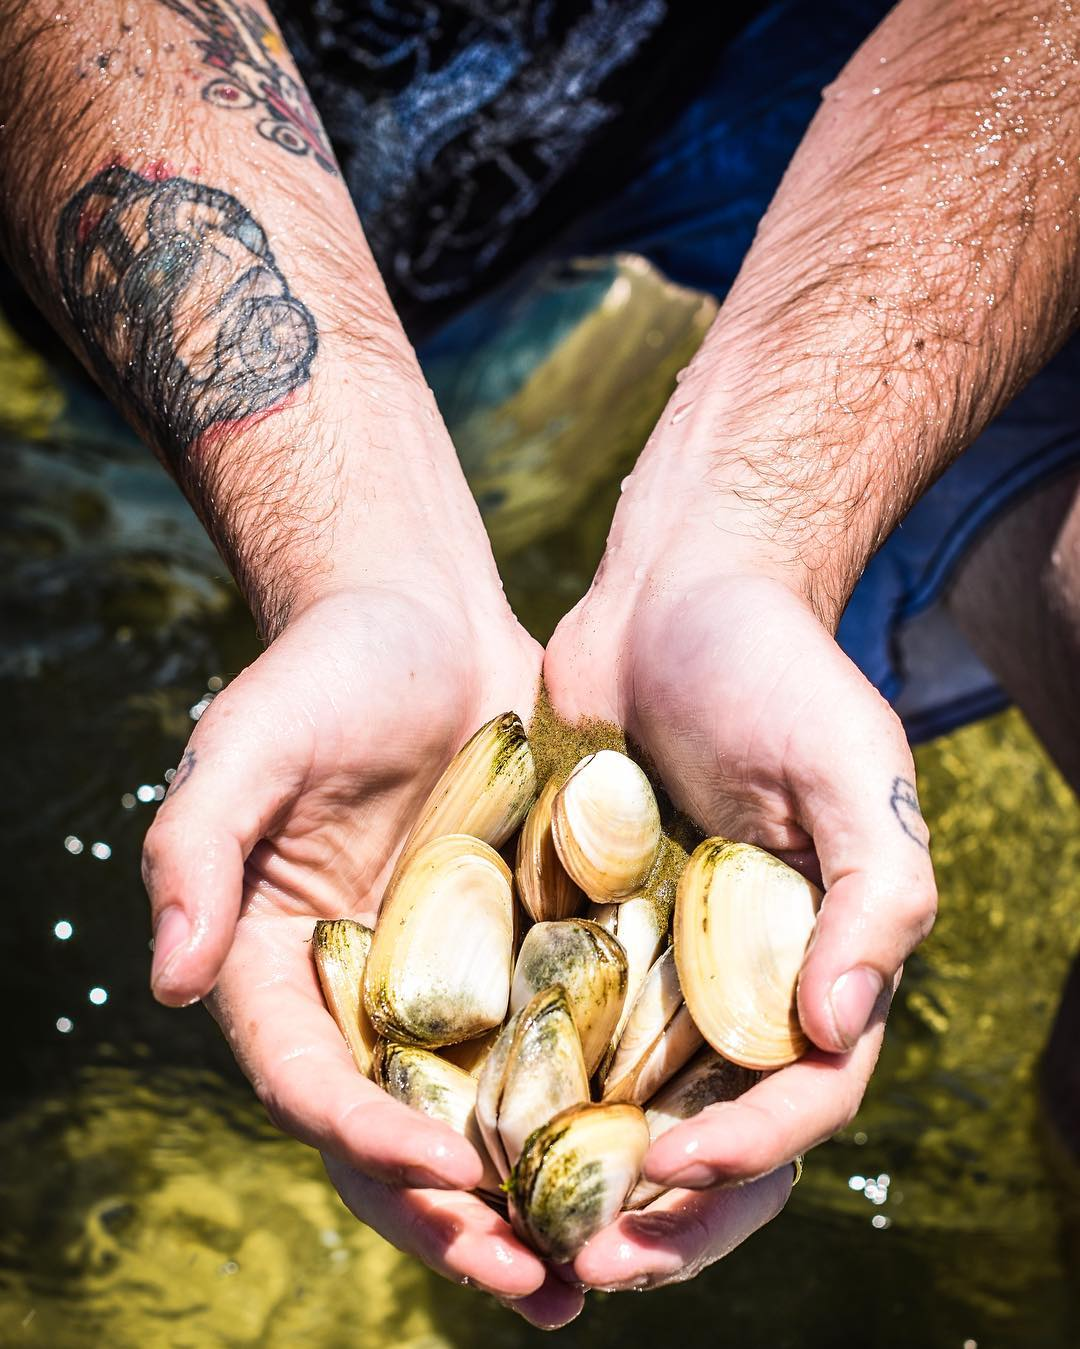tuatua: (669, 825, 816, 1075), (355, 828, 514, 1050), (392, 706, 543, 861), (514, 1092, 658, 1250), (472, 976, 592, 1157), (509, 915, 634, 1078), (551, 747, 665, 902)
